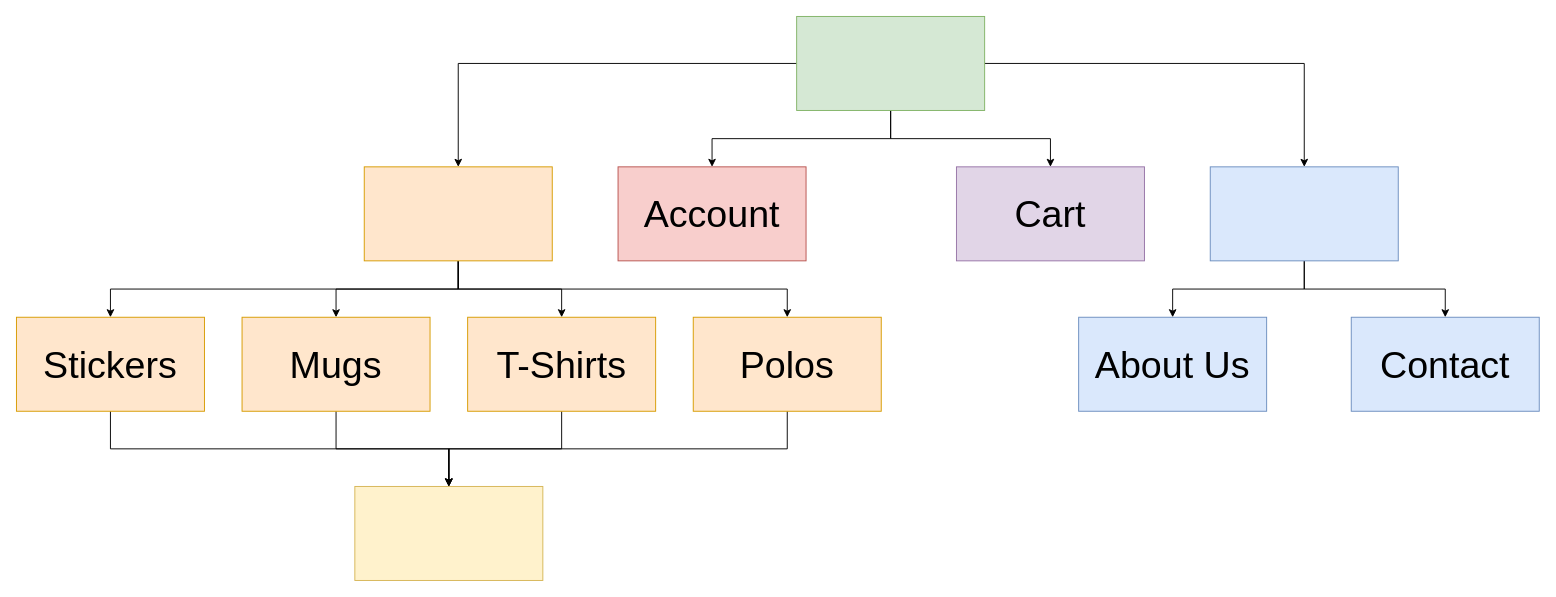
Some shapes in this 1556 by 597 pixel diagram are drawn without their labels. The centre of each missing label's shape, as x and y in pixels:
"Collections" belongs at (x=457, y=213).
"Home" belongs at (x=890, y=63).
"Pages" belongs at (x=1303, y=213).
"Product" belongs at (x=448, y=533).
